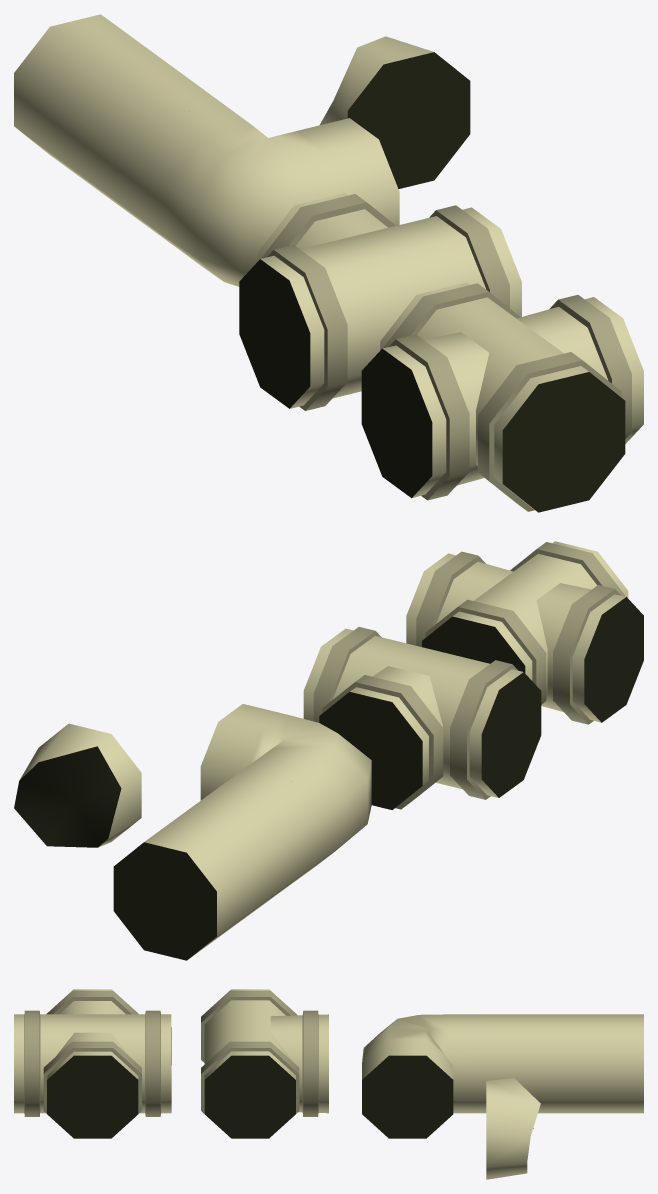
File: disposal pipes.fbx
3 views of the same model, one above another, from view 1: azimuth 30°, elevation 25°; view 2: azimuth 150°, elevation 25°; view 3: azimuth 270°, elevation 25° (orthographic). The views are drawn at different scales.
Parts seen in each view (by area): view 1: Disposal X, Disposal T, Disposal L, Disposal I, Disposal Broken; view 2: Disposal T, Disposal X, Disposal I, Disposal L, Disposal Broken; view 3: Disposal X, Disposal T, Disposal I, Disposal L, Disposal Broken.
Boxes of the visible parts, x1,y1,x2,y2 form: Disposal X: (361, 282, 643, 512); Disposal T: (239, 193, 521, 410); Disposal L: (136, 103, 399, 286); Disposal I: (14, 14, 222, 242); Disposal Broken: (320, 36, 470, 188); Disposal T: (303, 627, 541, 809); Disposal X: (406, 541, 643, 724); Disposal I: (113, 767, 319, 960); Disposal L: (200, 704, 371, 882); Disposal Broken: (14, 723, 141, 847); Disposal X: (14, 989, 171, 1138); Disposal T: (201, 989, 328, 1138); Disposal I: (486, 1014, 643, 1113); Disposal L: (362, 1014, 486, 1138); Disposal Broken: (486, 1078, 540, 1179).
Size of the model in its own units: 4 by 0.6243 by 1.79.
